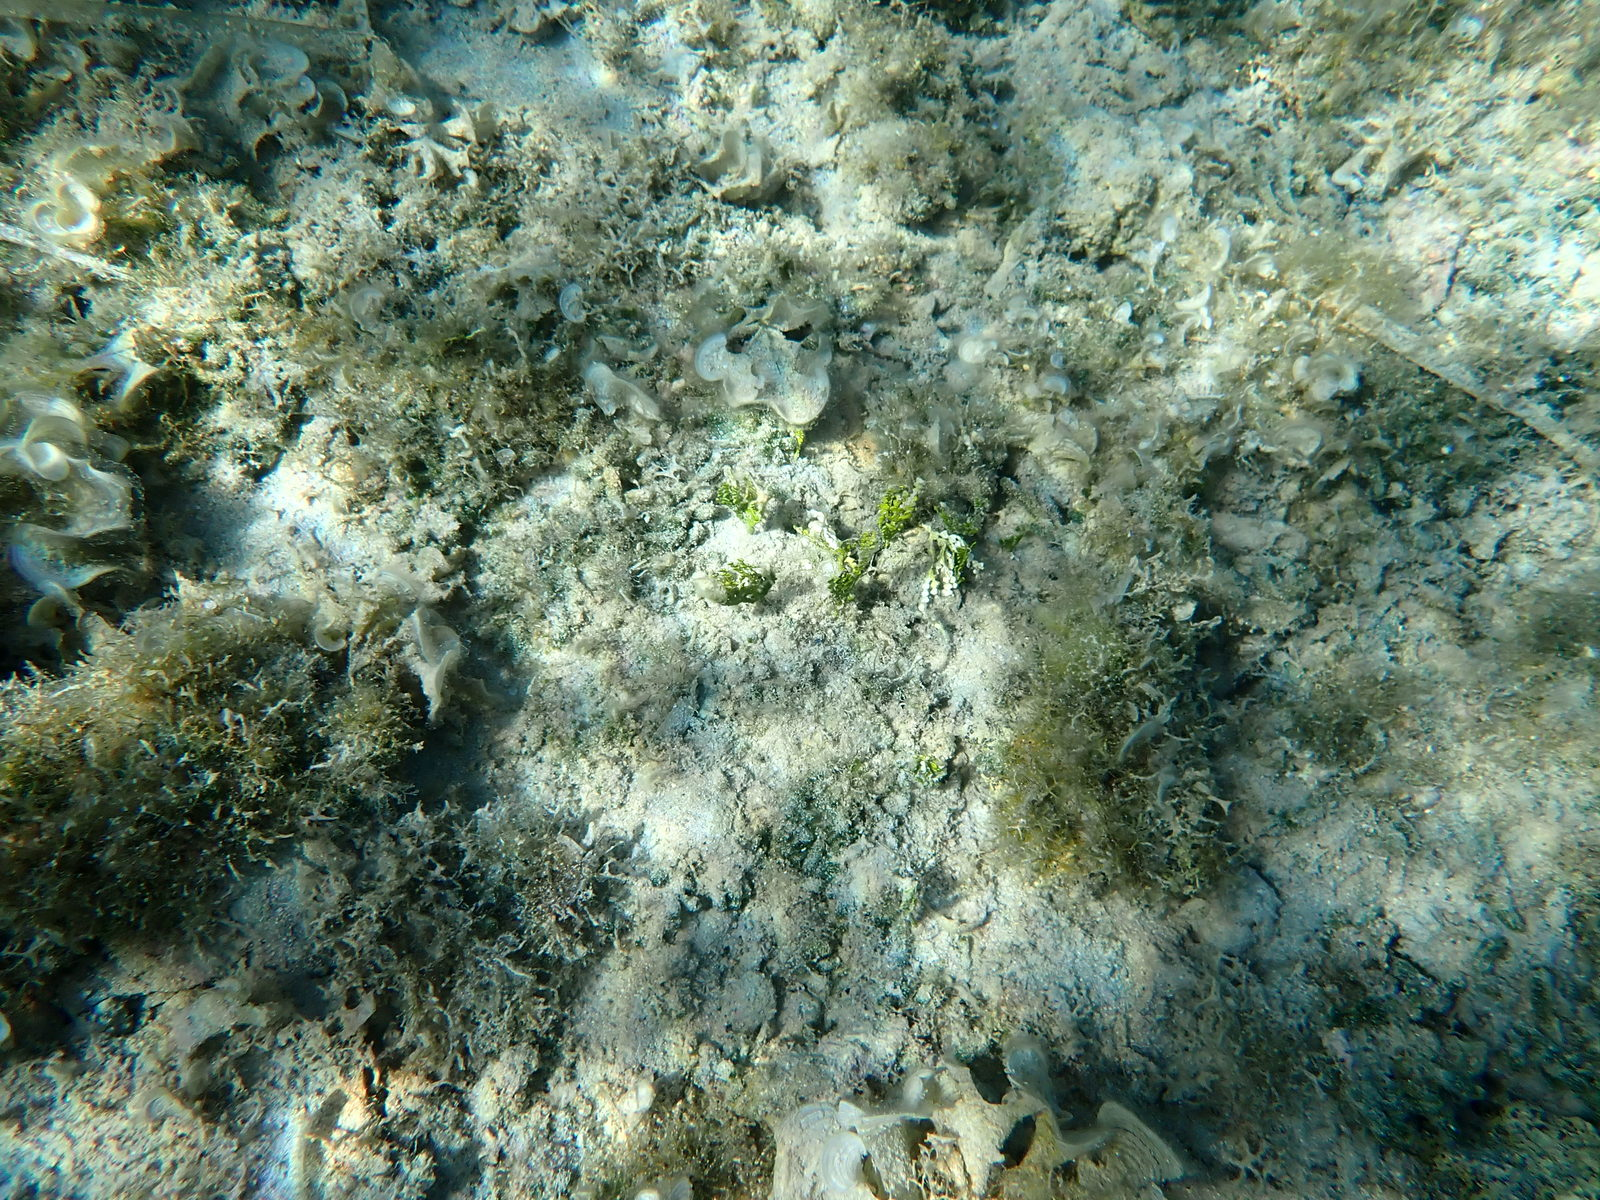halimeda: (918, 532, 986, 614), (791, 521, 884, 567), (706, 558, 779, 603), (878, 471, 930, 533), (934, 494, 993, 539), (716, 474, 760, 533), (826, 565, 866, 618), (913, 753, 946, 783), (791, 425, 805, 463), (998, 533, 1023, 550)
